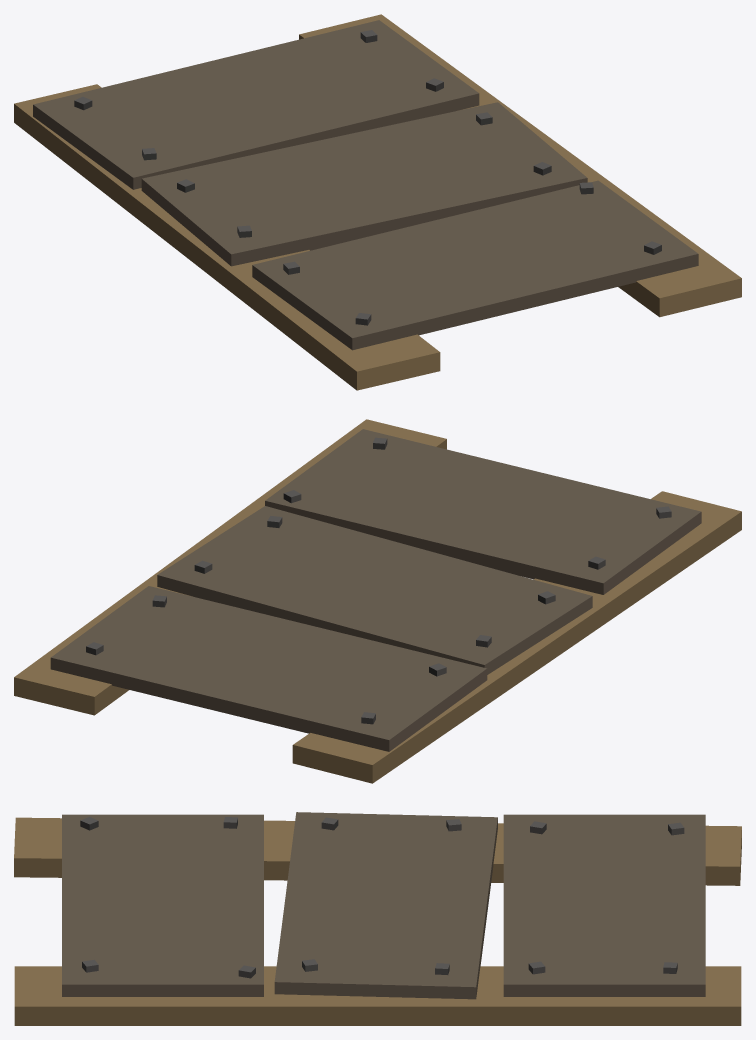
Rendered from AI_Env_Sewer_Bridge_02.fbx.
3 renders of one model, top to bottom at view 1: azimuth 30°, elevation 25°; view 2: azimuth 150°, elevation 25°; view 3: azimuth 270°, elevation 25°, orthographic. The views are drawn at different scales.
Visible parts, largest first — view 1: AI_Env_Sewer_Bridge_02; view 2: AI_Env_Sewer_Bridge_02; view 3: AI_Env_Sewer_Bridge_02.
Boxes of the visible parts, <box> form: AI_Env_Sewer_Bridge_02: <box>14,14,741,390</box>; AI_Env_Sewer_Bridge_02: <box>14,419,741,783</box>; AI_Env_Sewer_Bridge_02: <box>14,812,741,1025</box>.
Bounding box in the file's own units: 2.43 × 0.2238 × 3.95.
